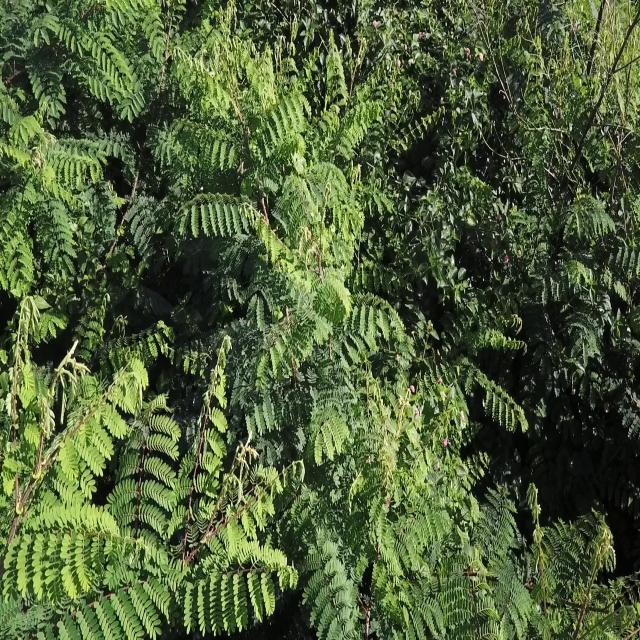Mysore-Thorn-Weed: (0, 326, 295, 640), (0, 0, 171, 303), (290, 360, 448, 640), (166, 36, 313, 278), (509, 67, 623, 319), (452, 480, 624, 640), (305, 48, 390, 266), (294, 270, 408, 374)
